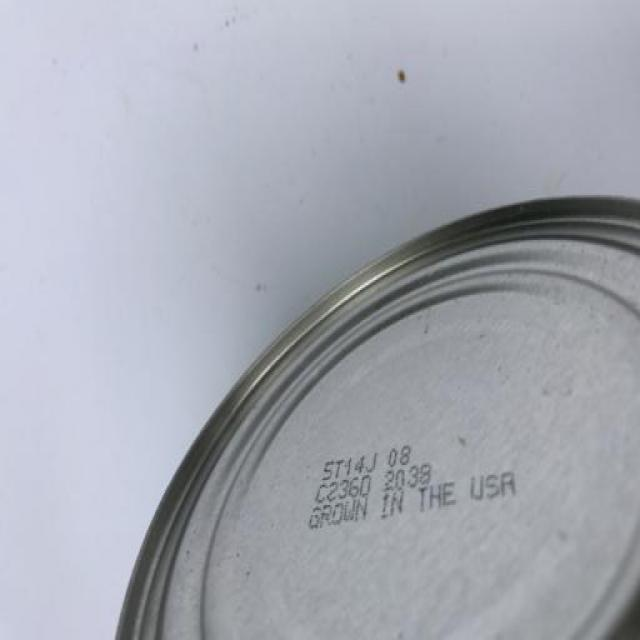metel: (106, 149, 640, 640)
